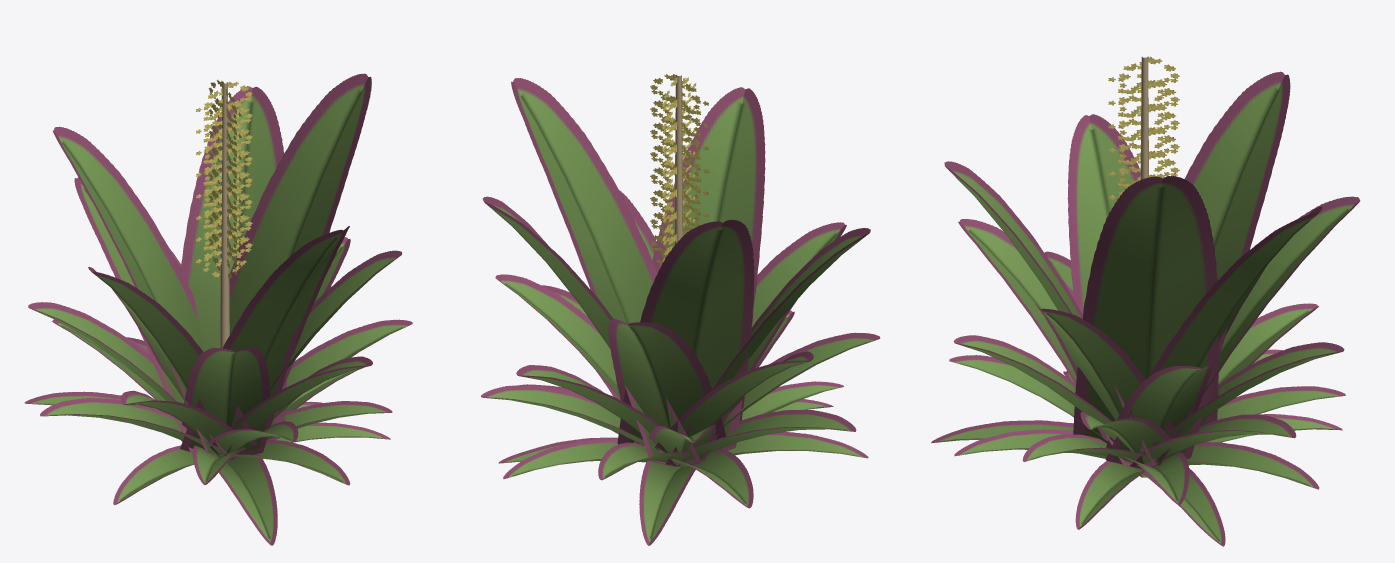
Rendered from alcantarea-imperialis.glb.
3 renders of one model, left to right at view 1: azimuth 30°, elevation 25°; view 2: azimuth 150°, elevation 25°; view 3: azimuth 270°, elevation 25°, orthographic. The views are drawn at different scales.
Visible parts, largest first — view 1: folhas, flores, haste; view 2: folhas, flores, haste; view 3: folhas, flores, haste.
Boxes of the visible parts, box(x1,y1,x2,y2) form: folhas: box(24, 73, 412, 545); flores: box(196, 80, 252, 278); haste: box(219, 82, 229, 348); folhas: box(481, 78, 880, 545); flores: box(650, 74, 708, 265); haste: box(674, 75, 683, 468); folhas: box(931, 71, 1360, 546); flores: box(1108, 56, 1179, 199); haste: box(1139, 56, 1148, 477).
Size of the model in its own units: 1.46 by 1.5 by 1.5.
Materials: 3 (2 with a texture image).
